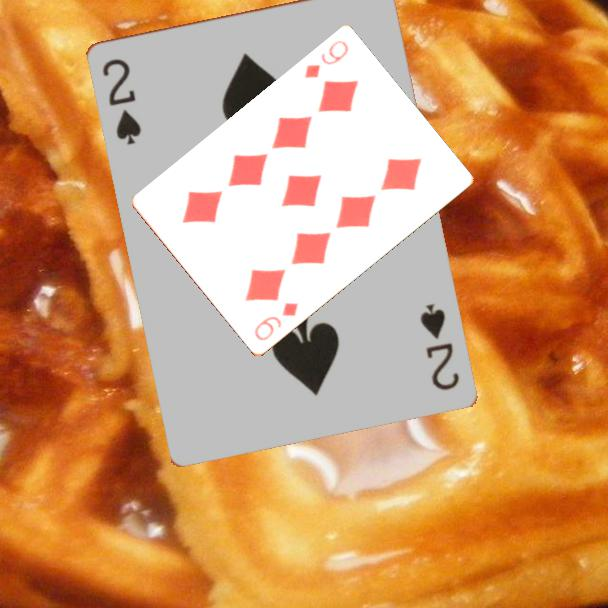d09: (251, 299, 301, 344), (301, 37, 351, 82)
s02: (415, 300, 462, 393), (98, 54, 144, 148)
